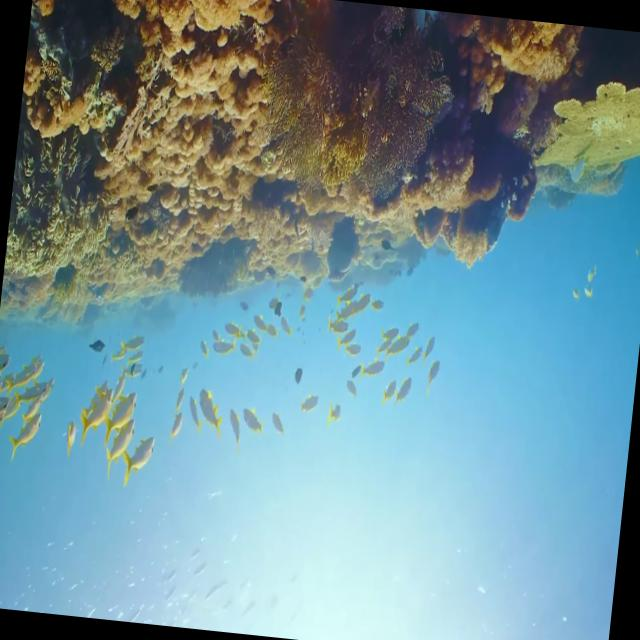fish: (186, 386, 230, 446), (117, 429, 158, 491), (102, 425, 144, 481), (101, 388, 143, 442), (5, 412, 50, 462), (238, 396, 268, 452), (16, 384, 53, 428), (77, 400, 116, 440), (218, 398, 245, 454), (268, 401, 290, 449), (392, 372, 420, 409), (293, 392, 322, 422), (422, 354, 442, 396), (210, 337, 238, 360), (326, 396, 344, 430)
